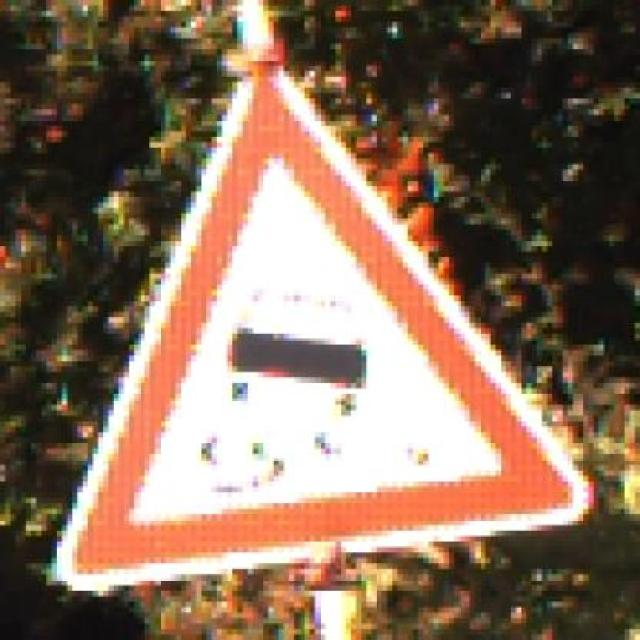Slippery Road Ahead: (36, 66, 599, 596)
